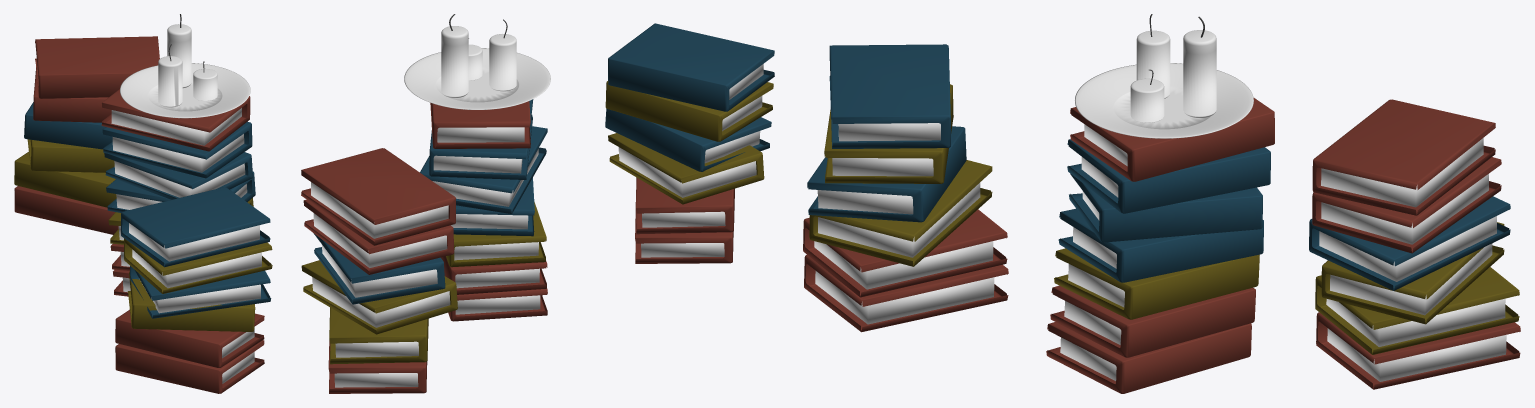
File: tumareta_book.fbx
3 views of the same model, side by side, from view 1: azimuth 30°, elevation 25°; view 2: azimuth 150°, elevation 25°; view 3: azimuth 270°, elevation 25° (orthographic). The views are drawn at different scales.
Visible parts, largest first — view 1: 立方体.142; view 2: 立方体.142; view 3: 立方体.142.
Part boxes in pixels (<box>): 立方体.142: <box>14,14,272,393</box>; 立方体.142: <box>301,14,774,393</box>; 立方体.142: <box>803,14,1520,393</box>.
Size of the model in its own units: 32.21 by 36.04 by 66.69.
